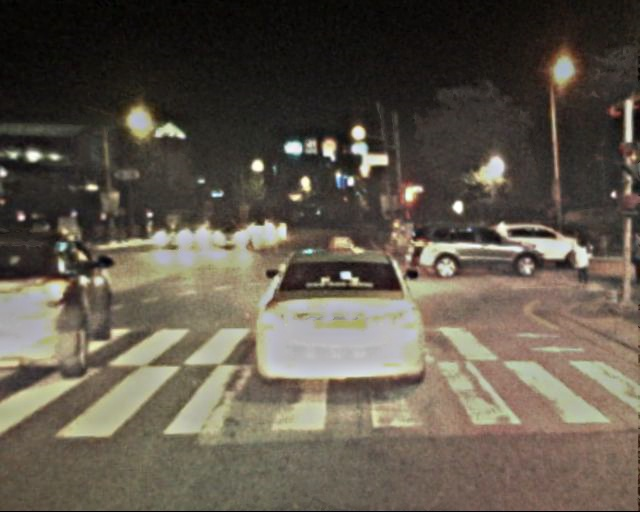person: (565, 229, 594, 300), (623, 231, 640, 288)
